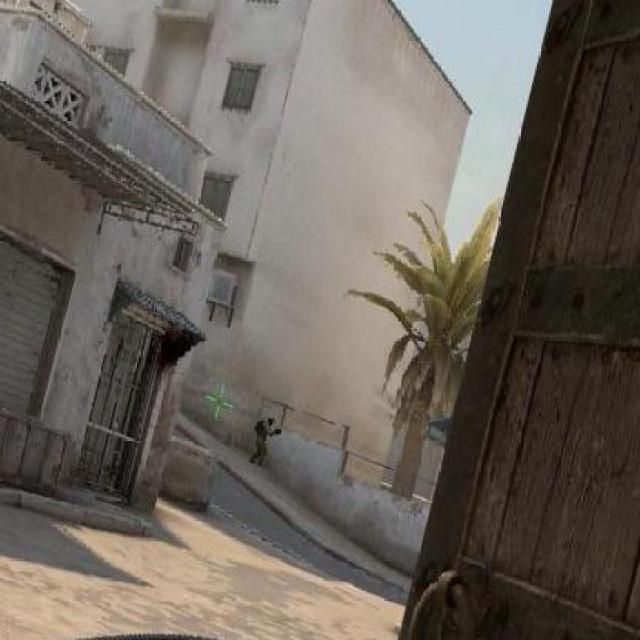CT-Body: (266, 416, 277, 424)
CT-Head: (254, 412, 278, 462)
